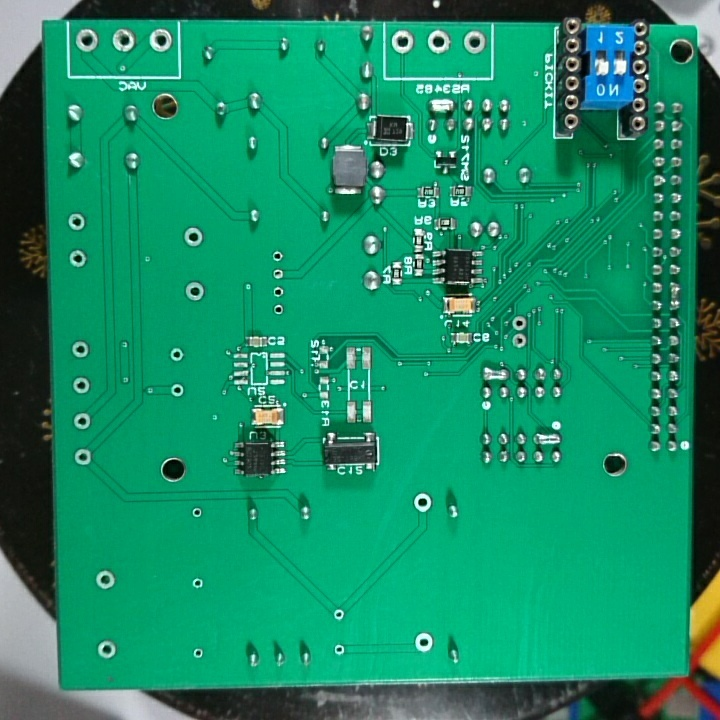F: (145, 27, 174, 55), (110, 26, 137, 56), (389, 26, 414, 58), (424, 27, 452, 55), (73, 26, 100, 54), (461, 28, 487, 55), (411, 629, 436, 656), (182, 223, 206, 250), (96, 638, 121, 663), (65, 211, 89, 235), (184, 279, 207, 304), (410, 491, 433, 515), (68, 338, 91, 361), (93, 567, 115, 590), (67, 248, 89, 269), (73, 446, 93, 469), (71, 411, 92, 432), (70, 374, 90, 395), (509, 332, 530, 351), (167, 344, 185, 366), (167, 380, 186, 400), (510, 314, 529, 332), (270, 247, 287, 266), (269, 264, 286, 282), (270, 282, 287, 300), (330, 641, 347, 658), (189, 646, 205, 662), (272, 300, 287, 317), (190, 575, 205, 592), (330, 606, 345, 623), (189, 506, 204, 520)
P: (481, 363, 511, 383), (532, 429, 565, 447), (667, 278, 683, 312), (426, 97, 456, 115)
